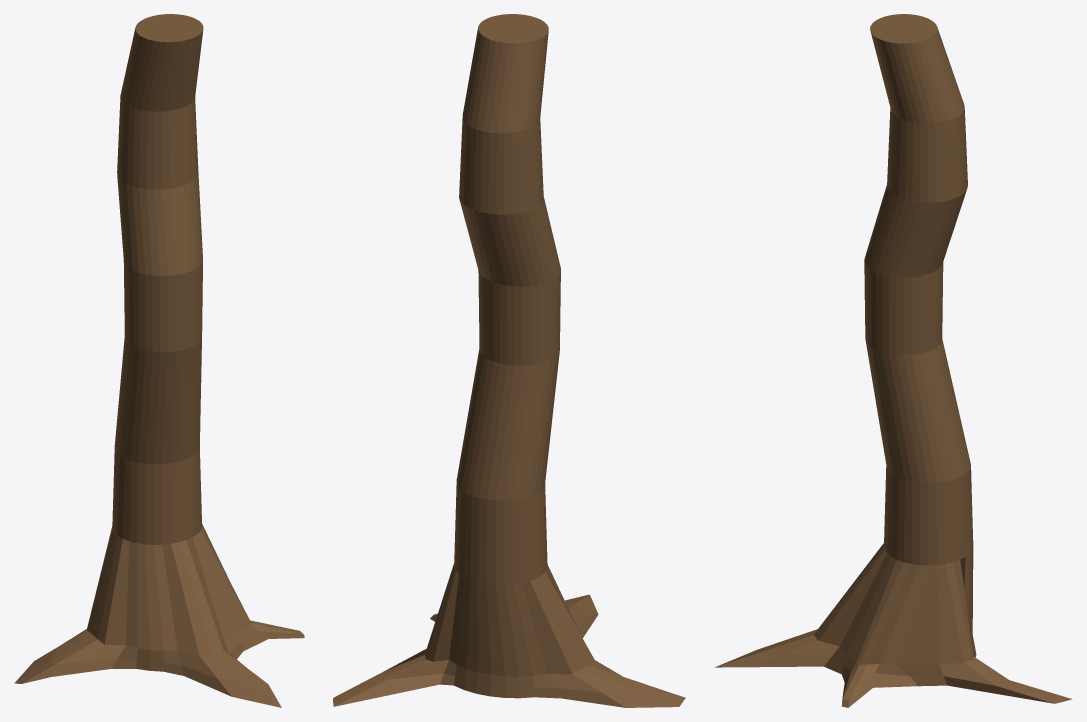
The model's file is tree no leaves.fbx.
3 renders of one model, left to right at view 1: azimuth 30°, elevation 25°; view 2: azimuth 150°, elevation 25°; view 3: azimuth 270°, elevation 25°, orthographic. The views are drawn at different scales.
Visible parts, largest first — view 1: tree no leaves; view 2: tree no leaves; view 3: tree no leaves.
Boxes of the visible parts, box(x1,y1,x2,y2) form: tree no leaves: box(14, 14, 304, 707); tree no leaves: box(333, 14, 685, 707); tree no leaves: box(714, 14, 1072, 707).
Bounding box in the file's own units: 843 × 1874 × 968.
